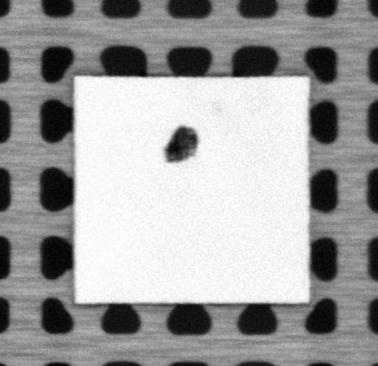DIE_INK: (162, 124, 198, 163)
